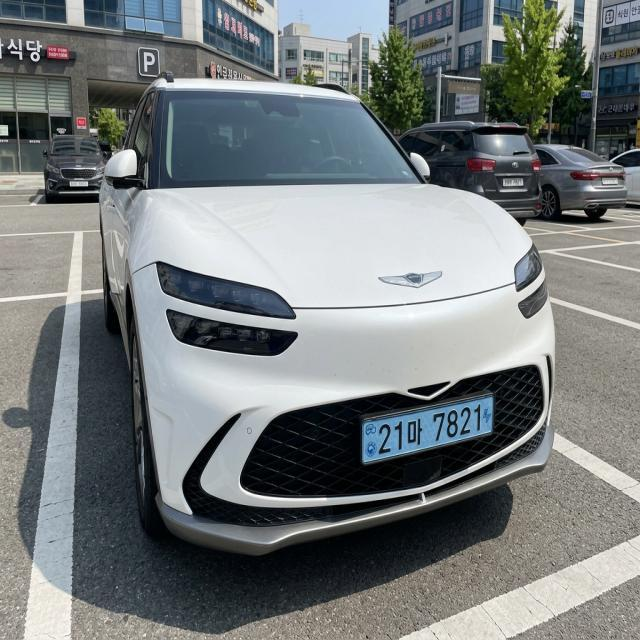car: (351, 377, 499, 486)
carev: (360, 418, 379, 466), (480, 396, 497, 444)
